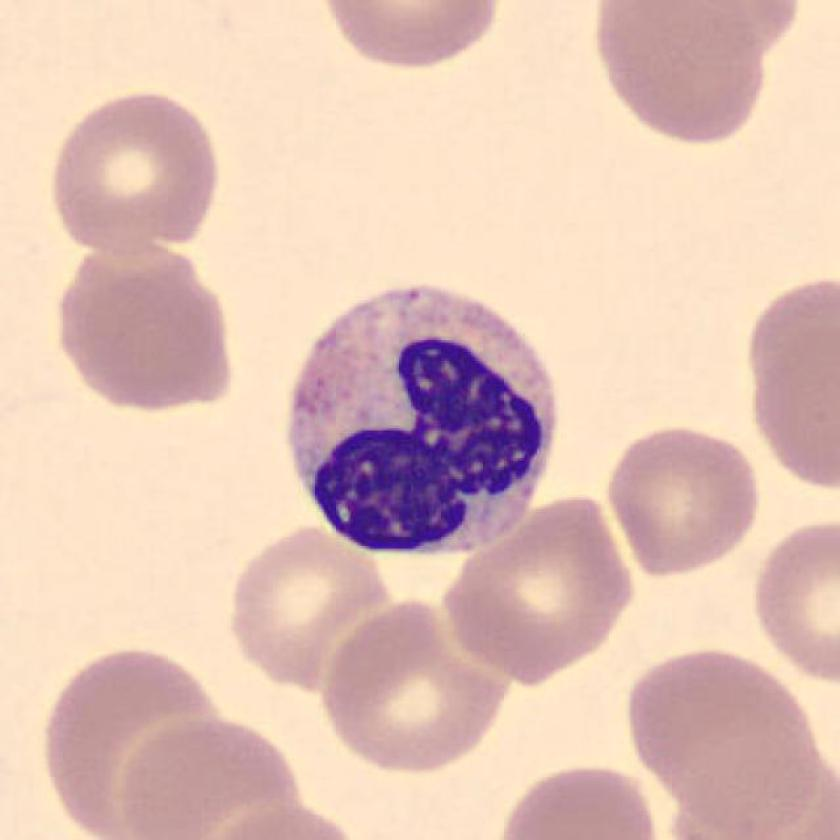neutrophil: (291, 284, 560, 555)
